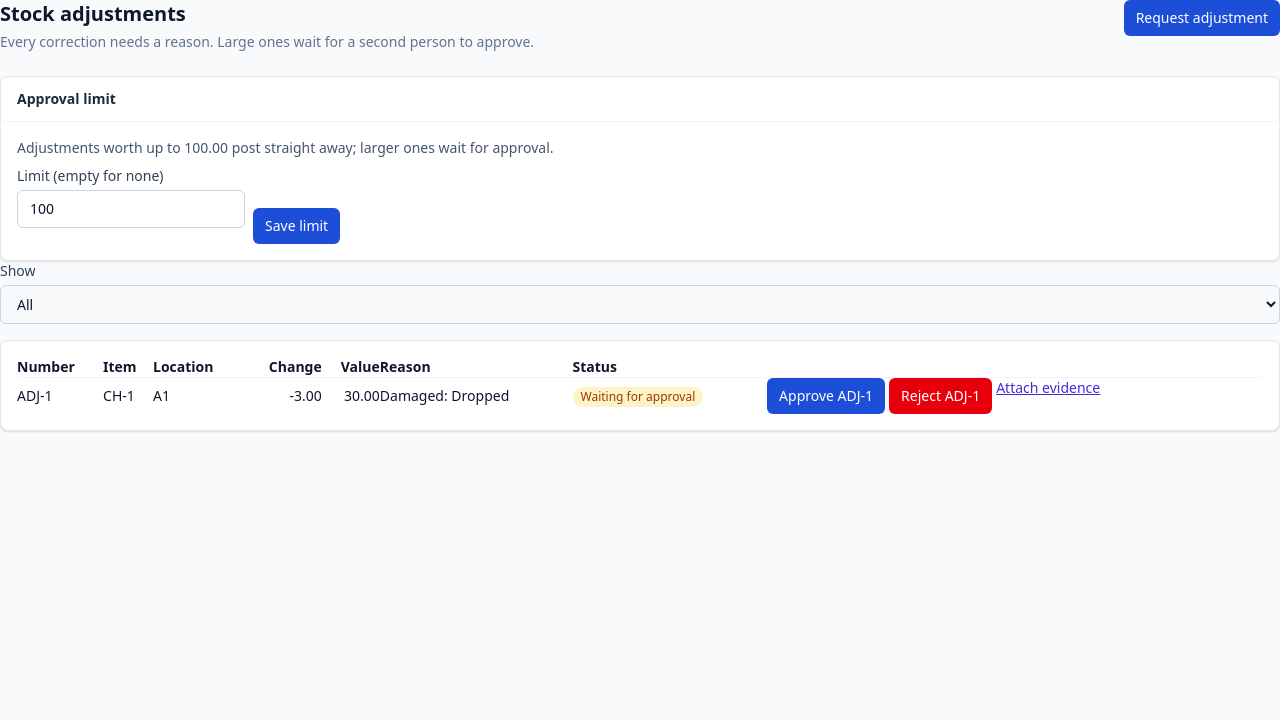
Test: AdjustmentsPage › approves with the separation-of-duties message surfaced from the server
Click the button "Approve ADJ-1" at (826, 396), box x1=767 y1=378 x2=885 y2=414
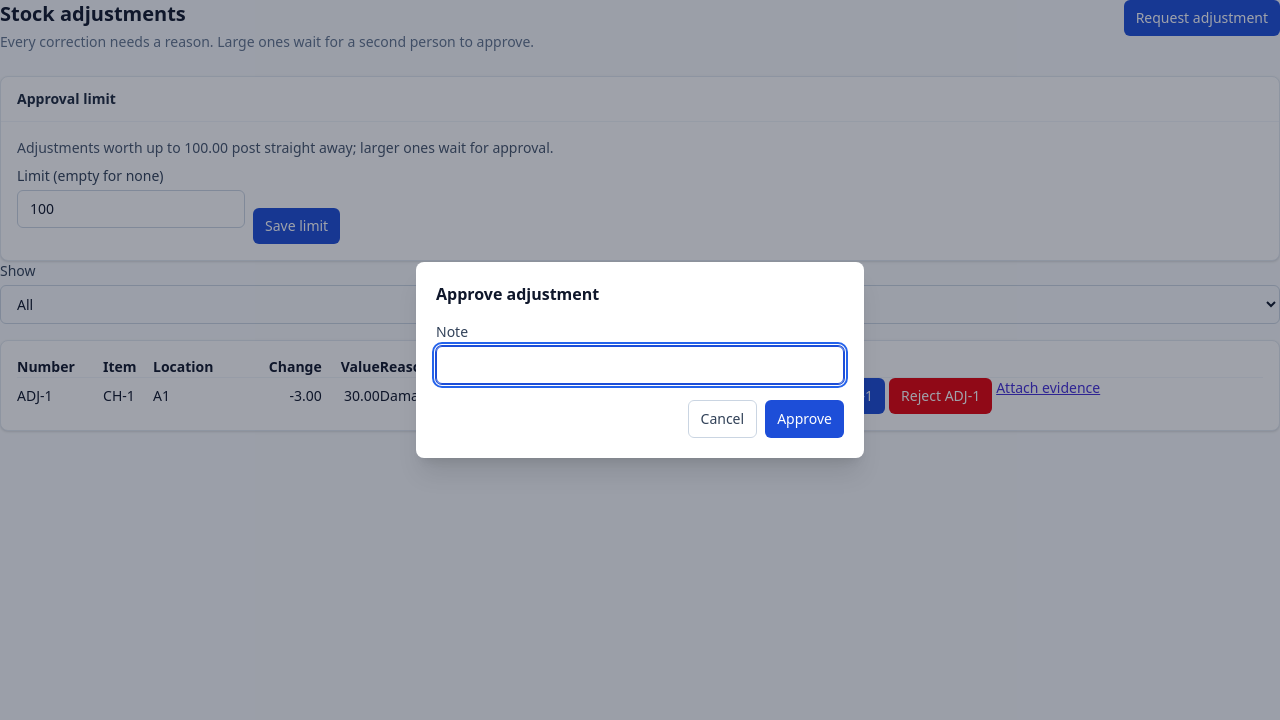
Click the button "Approve" at (805, 419), box x1=765 y1=400 x2=844 y2=438
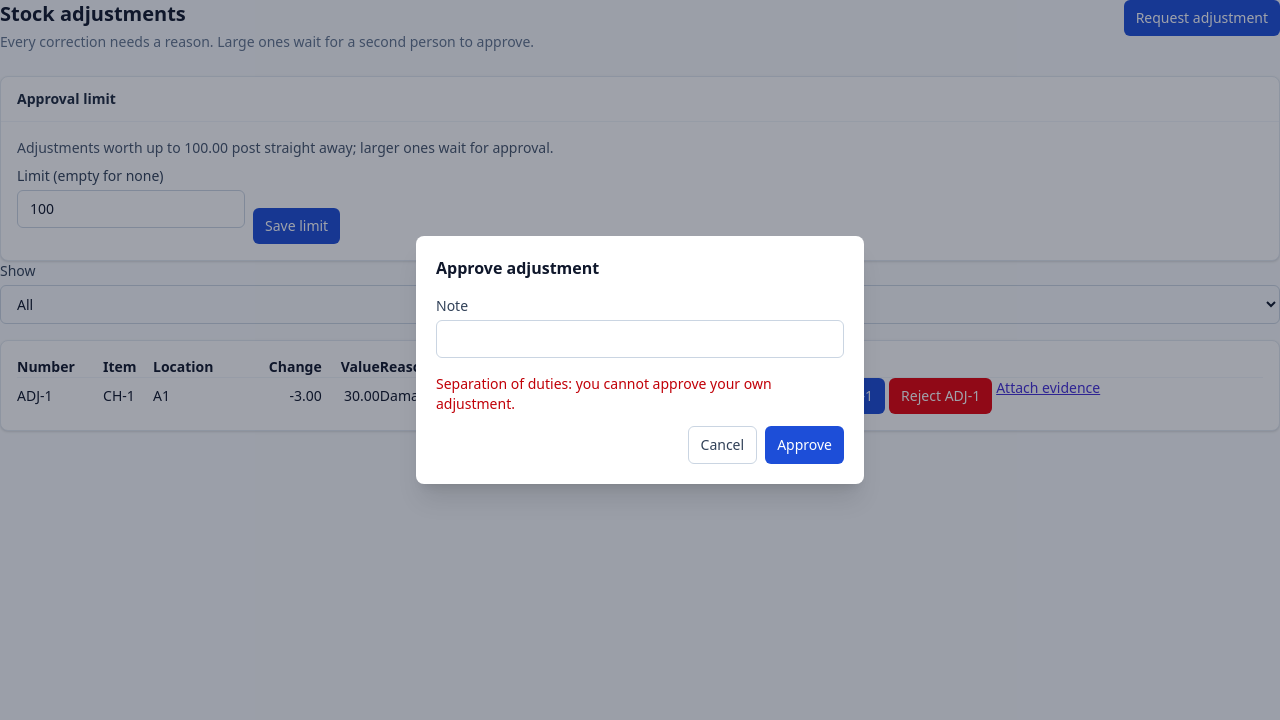
Check: the text "Separation of duties: you cannot approve your own adjustment." is shown, box x1=436 y1=374 x2=772 y2=413
